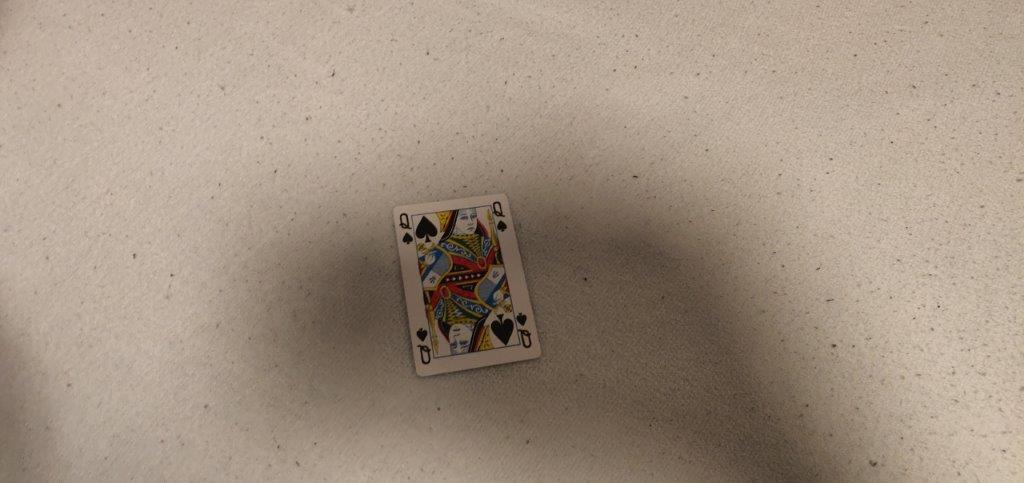QS: (488, 197, 513, 233), (397, 211, 416, 246)
